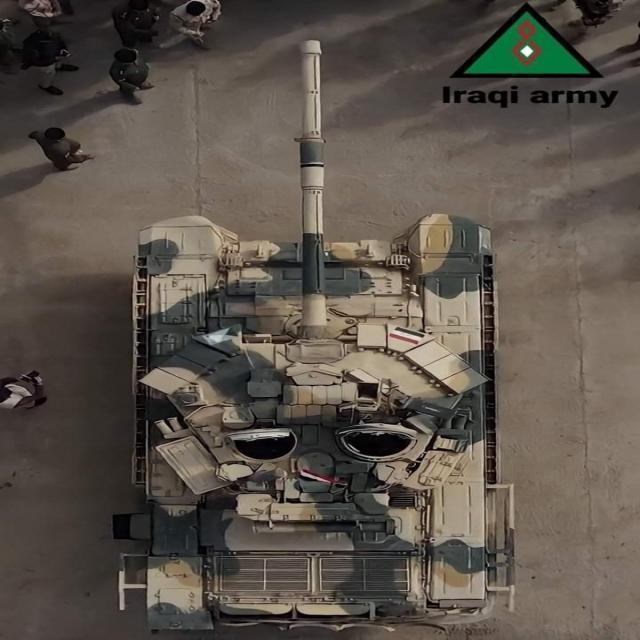MIL_MBT: (112, 41, 526, 640)
